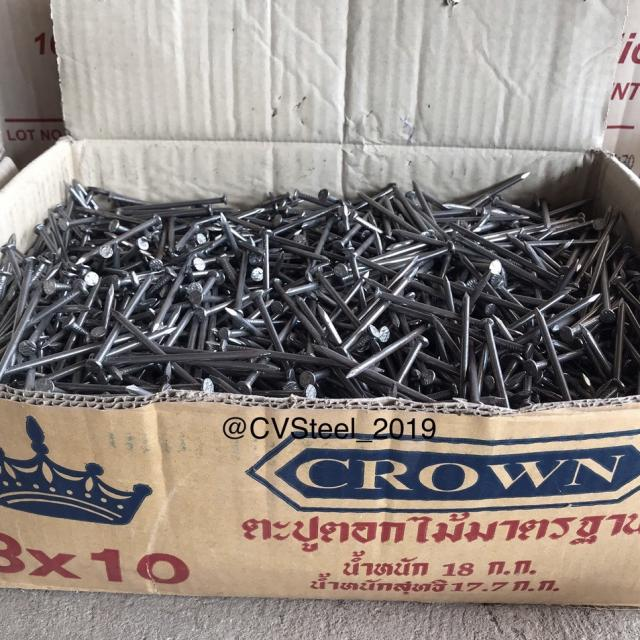3x10 nail: (72, 228, 330, 376), (440, 261, 634, 385)
